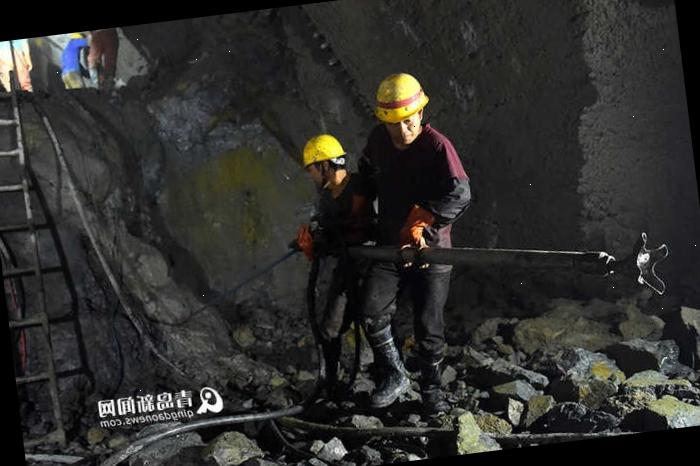helmet: (359, 67, 436, 147), (288, 126, 352, 172)
